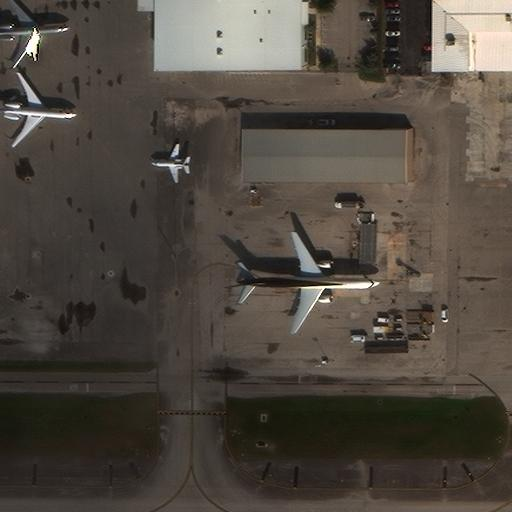Large Civil Transport: (239, 231, 379, 333)
Medium Civil Transport: (0, 71, 76, 147), (0, 0, 69, 68)
Small Civil Transport: (150, 143, 190, 183)
